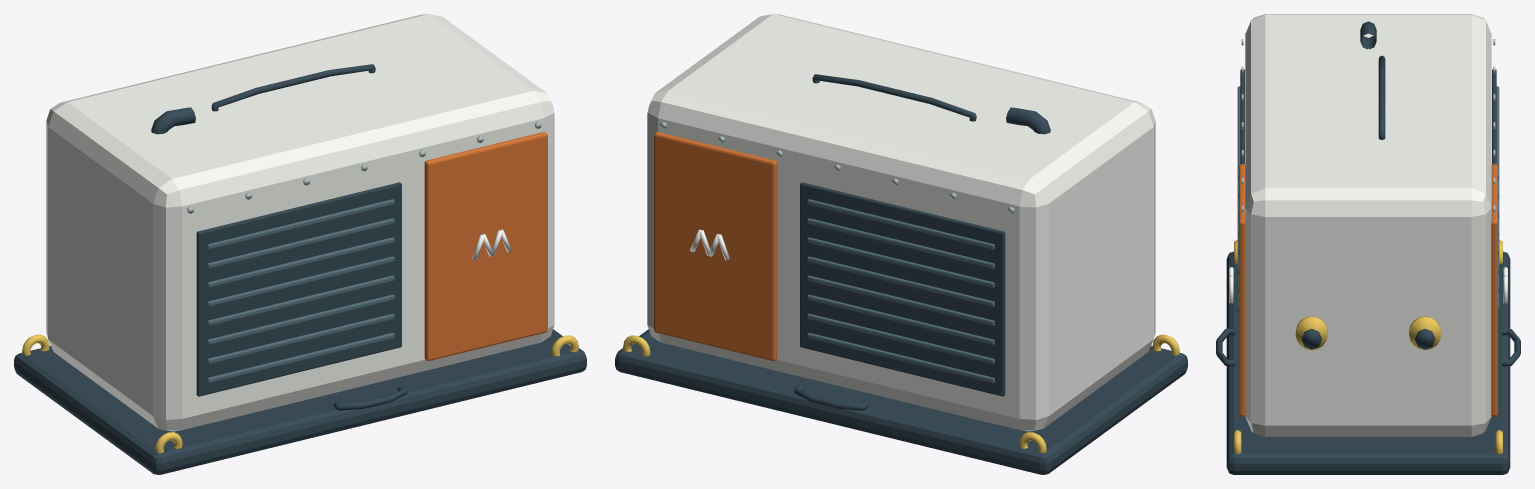
File: generator-large.glb
3 views of the same model, side by side, from view 1: azimuth 30°, elevation 25°; view 2: azimuth 150°, elevation 25°; view 3: azimuth 270°, elevation 25° (orthographic).
Visible parts, largest first — view 1: tyaga-generator-large-surface; view 2: tyaga-generator-large-surface; view 3: tyaga-generator-large-surface.
Boxes of the visible parts, box(x1,y1,x2,y2) form: tyaga-generator-large-surface: box(14, 14, 586, 474); tyaga-generator-large-surface: box(615, 14, 1187, 474); tyaga-generator-large-surface: box(1216, 14, 1520, 474).
Size of the model in its own units: 3.4 by 2.2 by 2.1.
